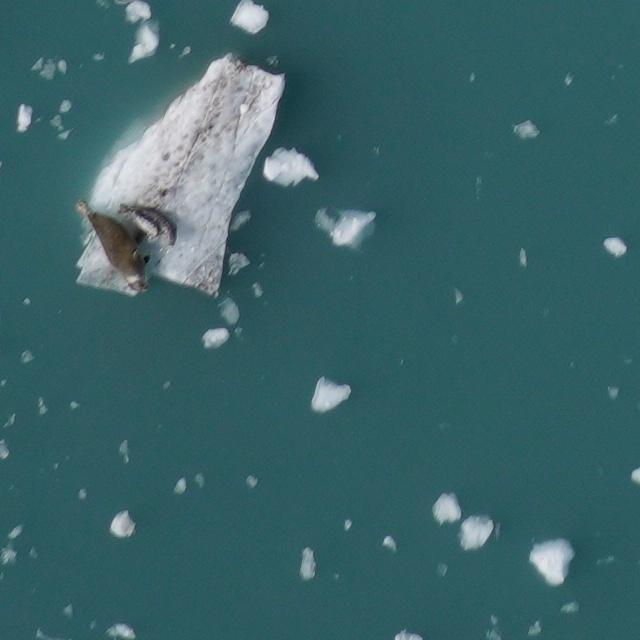seal: (64, 185, 165, 297), (114, 195, 184, 247)
